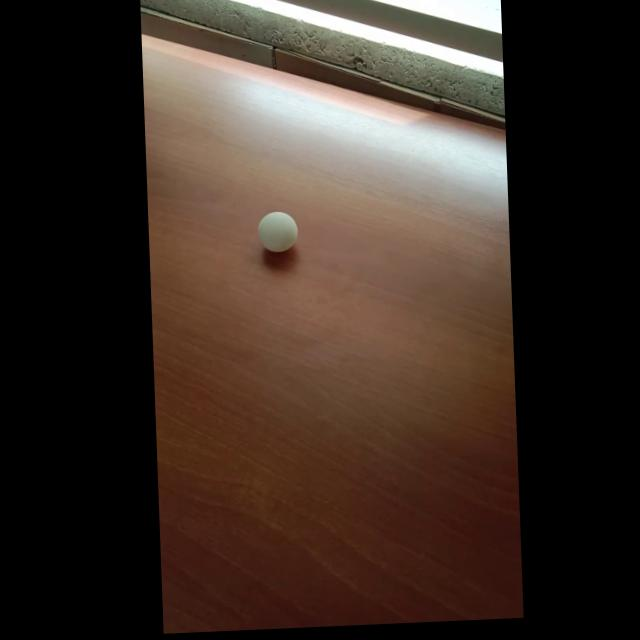white ball: (256, 210, 298, 254)
